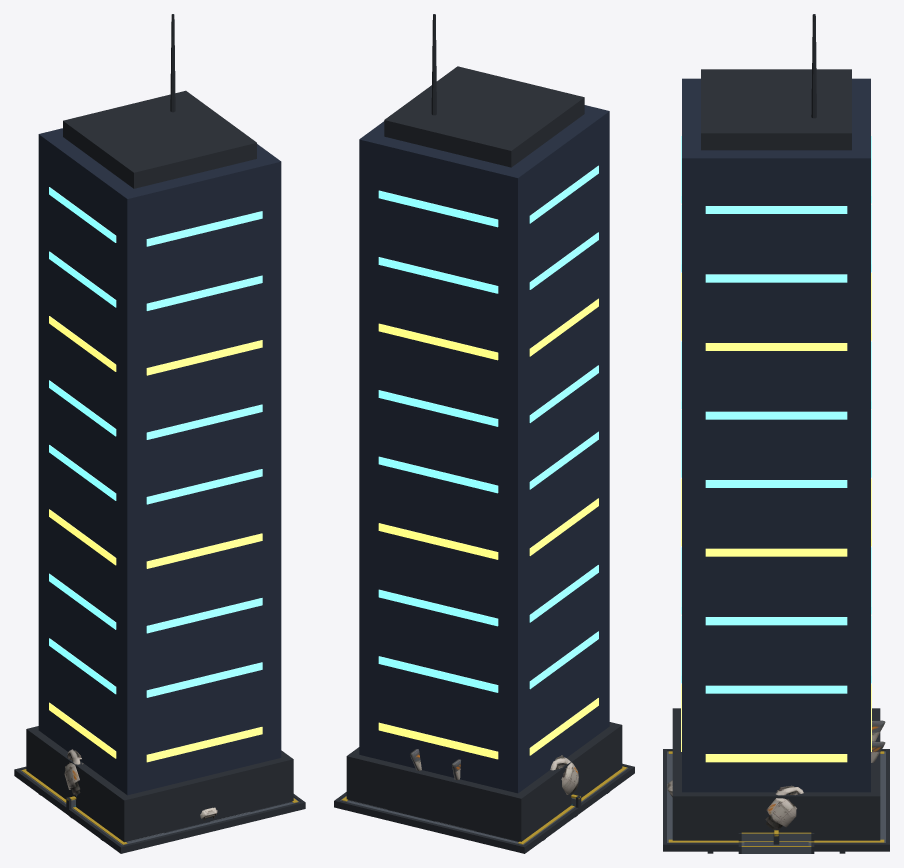
File: map_kit.glb
The picture shows the model from 3 angles, left to right: view 1: azimuth 30°, elevation 25°; view 2: azimuth 150°, elevation 25°; view 3: azimuth 270°, elevation 25°; orthographic projection. The views are drawn at different scales.
Parts seen in each view (by area): view 1: kit_tower, kit_deck, kit_ship; view 2: kit_tower, kit_deck, kit_ship; view 3: kit_tower, kit_deck, kit_stairs, kit_ship.
Boxes of the visible parts, box(x1,y1,x2,y2) form: kit_tower: box(26, 14, 293, 842); kit_deck: box(14, 766, 305, 853); kit_ship: box(64, 749, 217, 820); kit_tower: box(346, 14, 622, 841); kit_deck: box(334, 763, 634, 853); kit_ship: box(410, 749, 578, 794); kit_tower: box(672, 14, 880, 840); kit_deck: box(663, 749, 889, 853); kit_stairs: box(738, 832, 814, 853); kit_ship: box(667, 720, 885, 830).
Size of the model in its own units: 12.3 by 47.21 by 12.
Materials: 12 (9 with a texture image).
